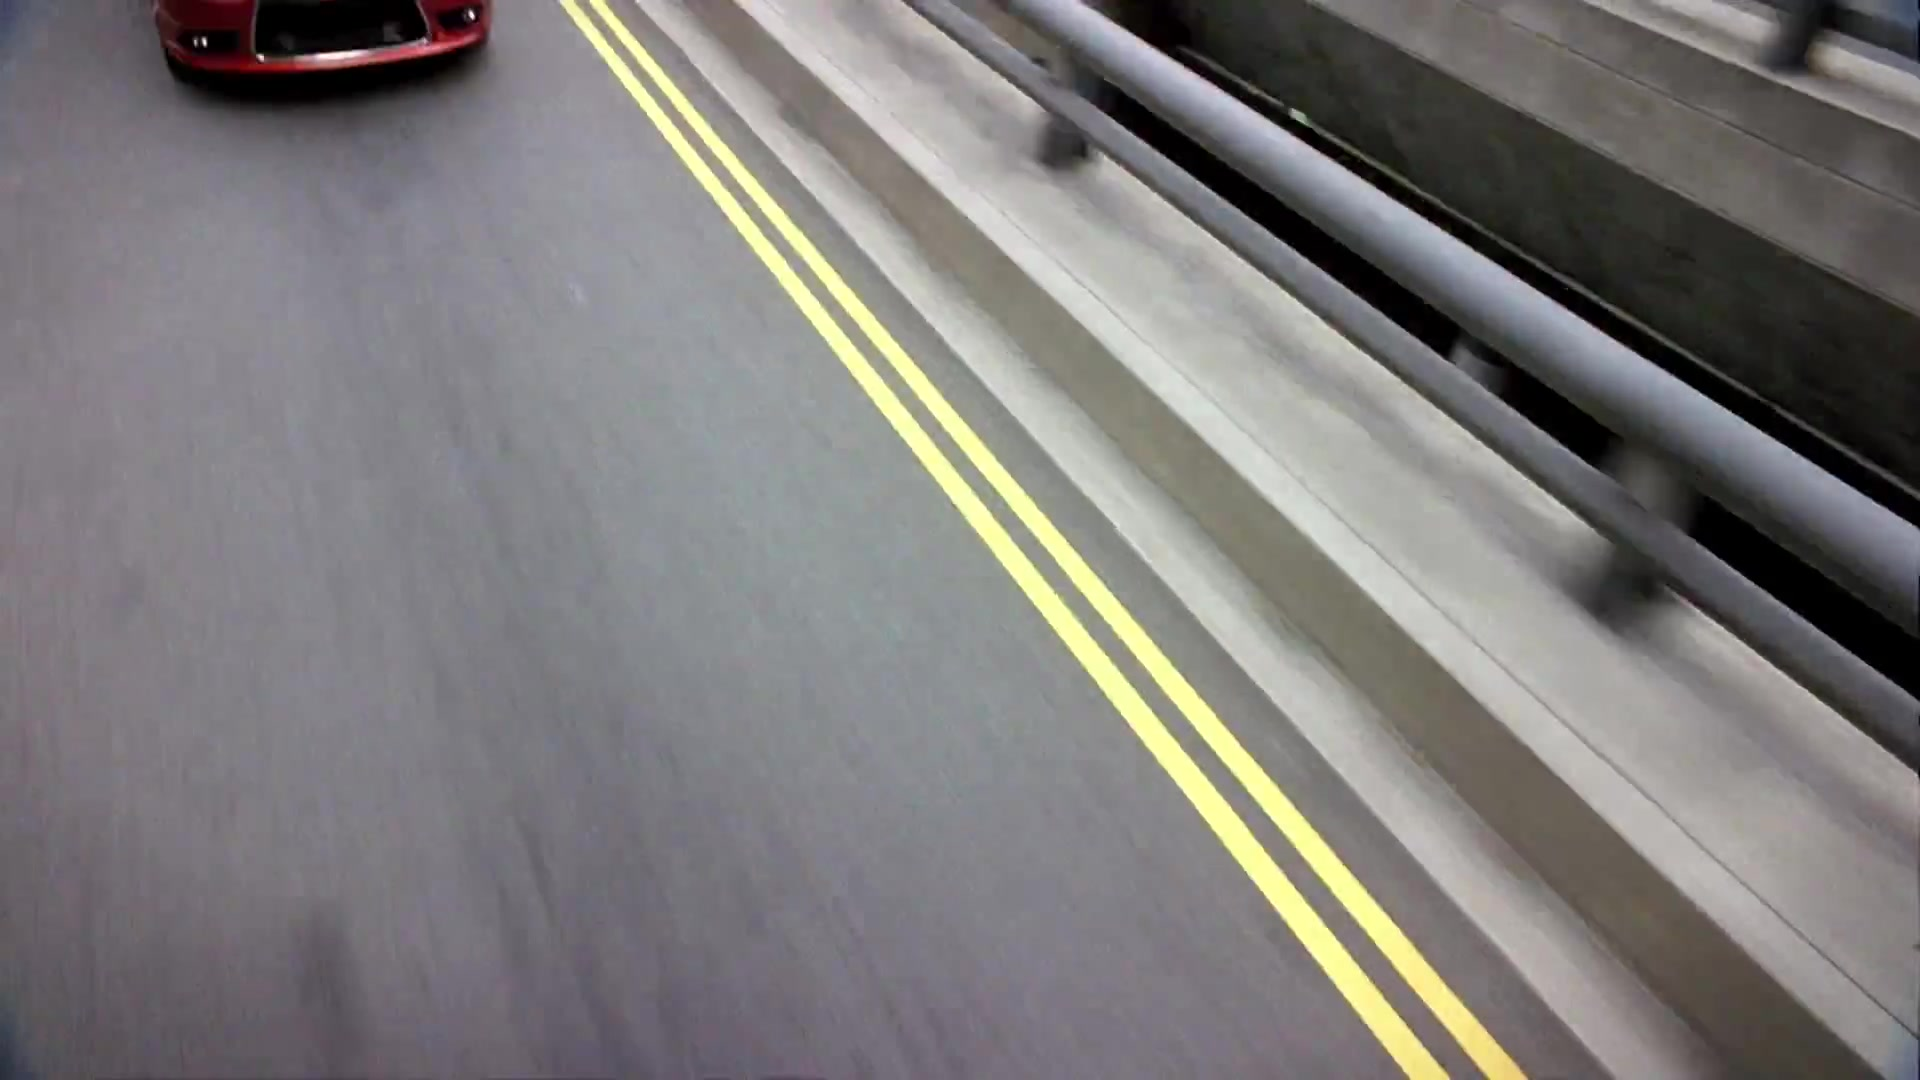car: (146, 1, 512, 98)
